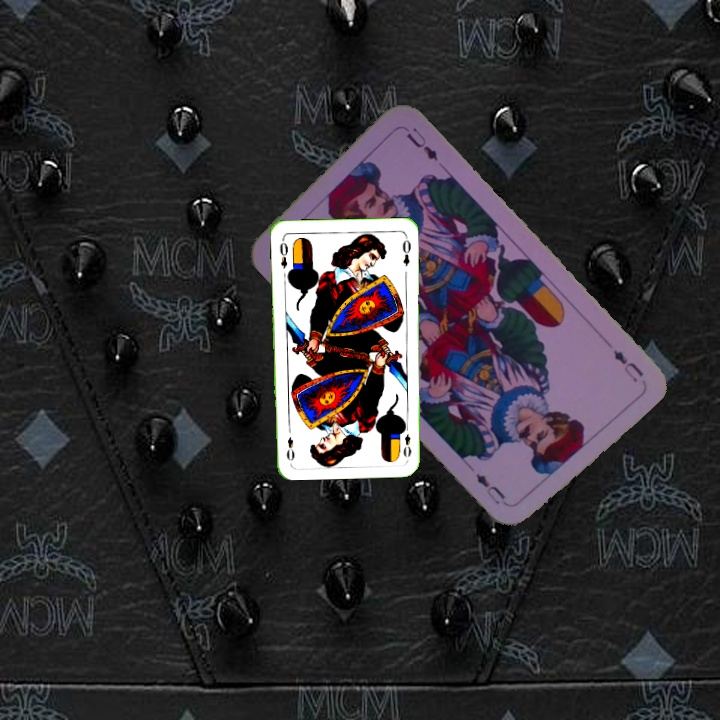EO: (398, 421, 413, 460), (275, 235, 290, 271)
EU: (609, 345, 647, 386)
